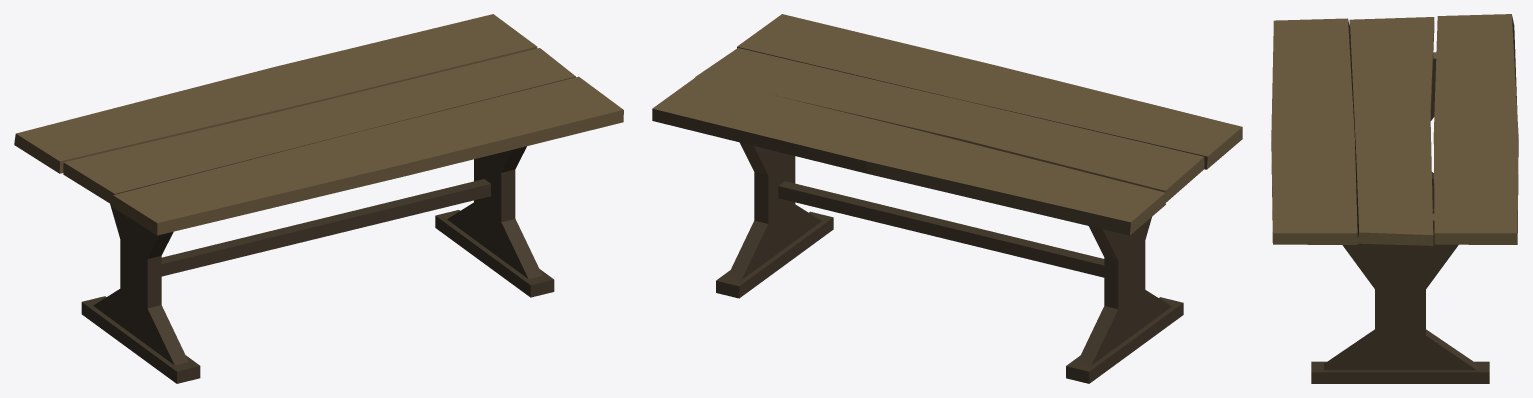
Rendered from roman_table_rect.fbx.
The picture shows the model from 3 angles, left to right: view 1: azimuth 30°, elevation 25°; view 2: azimuth 150°, elevation 25°; view 3: azimuth 270°, elevation 25°; orthographic projection. The views are drawn at different scales.
Visible parts, largest first — view 1: Cube.020; view 2: Cube.020; view 3: Cube.020.
Part boxes in pixels (x1=…): Cube.020: x1=14, y1=14, x2=623, y2=383; Cube.020: x1=652, y1=14, x2=1242, y2=383; Cube.020: x1=1271, y1=14, x2=1518, y2=383.
Size of the model in its own units: 2.46 by 0.9 by 1.16.
